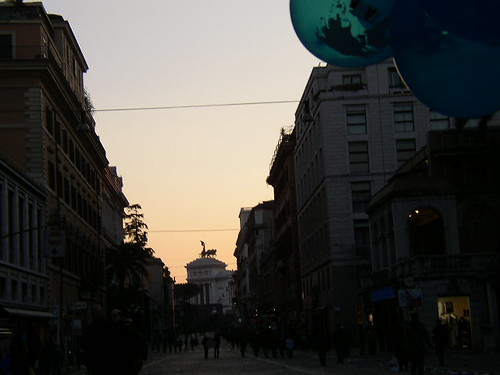building: (298, 66, 420, 349), (32, 24, 115, 375), (378, 142, 500, 375), (1, 167, 58, 375), (100, 166, 134, 370), (266, 133, 303, 313), (234, 205, 278, 322)
sky: (78, 6, 304, 245)
